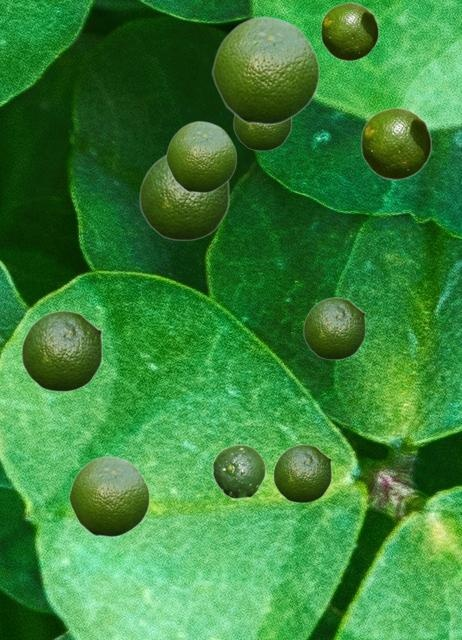calamansi: (211, 15, 319, 124), (139, 155, 229, 240), (21, 310, 102, 391), (68, 455, 149, 536), (360, 107, 431, 179), (165, 120, 236, 192), (303, 297, 365, 359), (320, 2, 378, 60), (273, 444, 331, 502), (212, 444, 265, 498), (233, 116, 291, 150)
